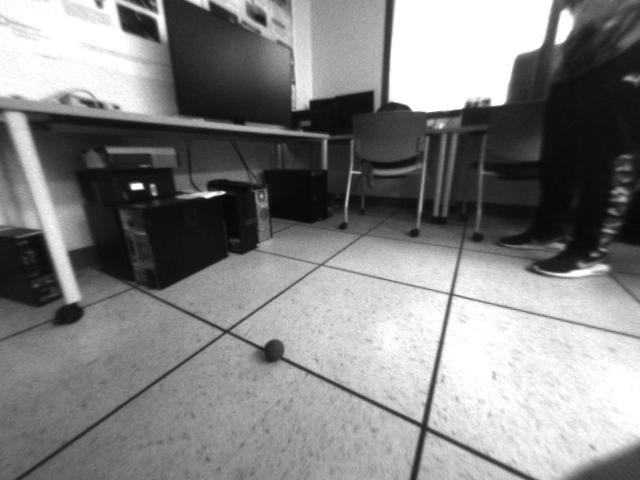dogtoy: (255, 329, 293, 365)
